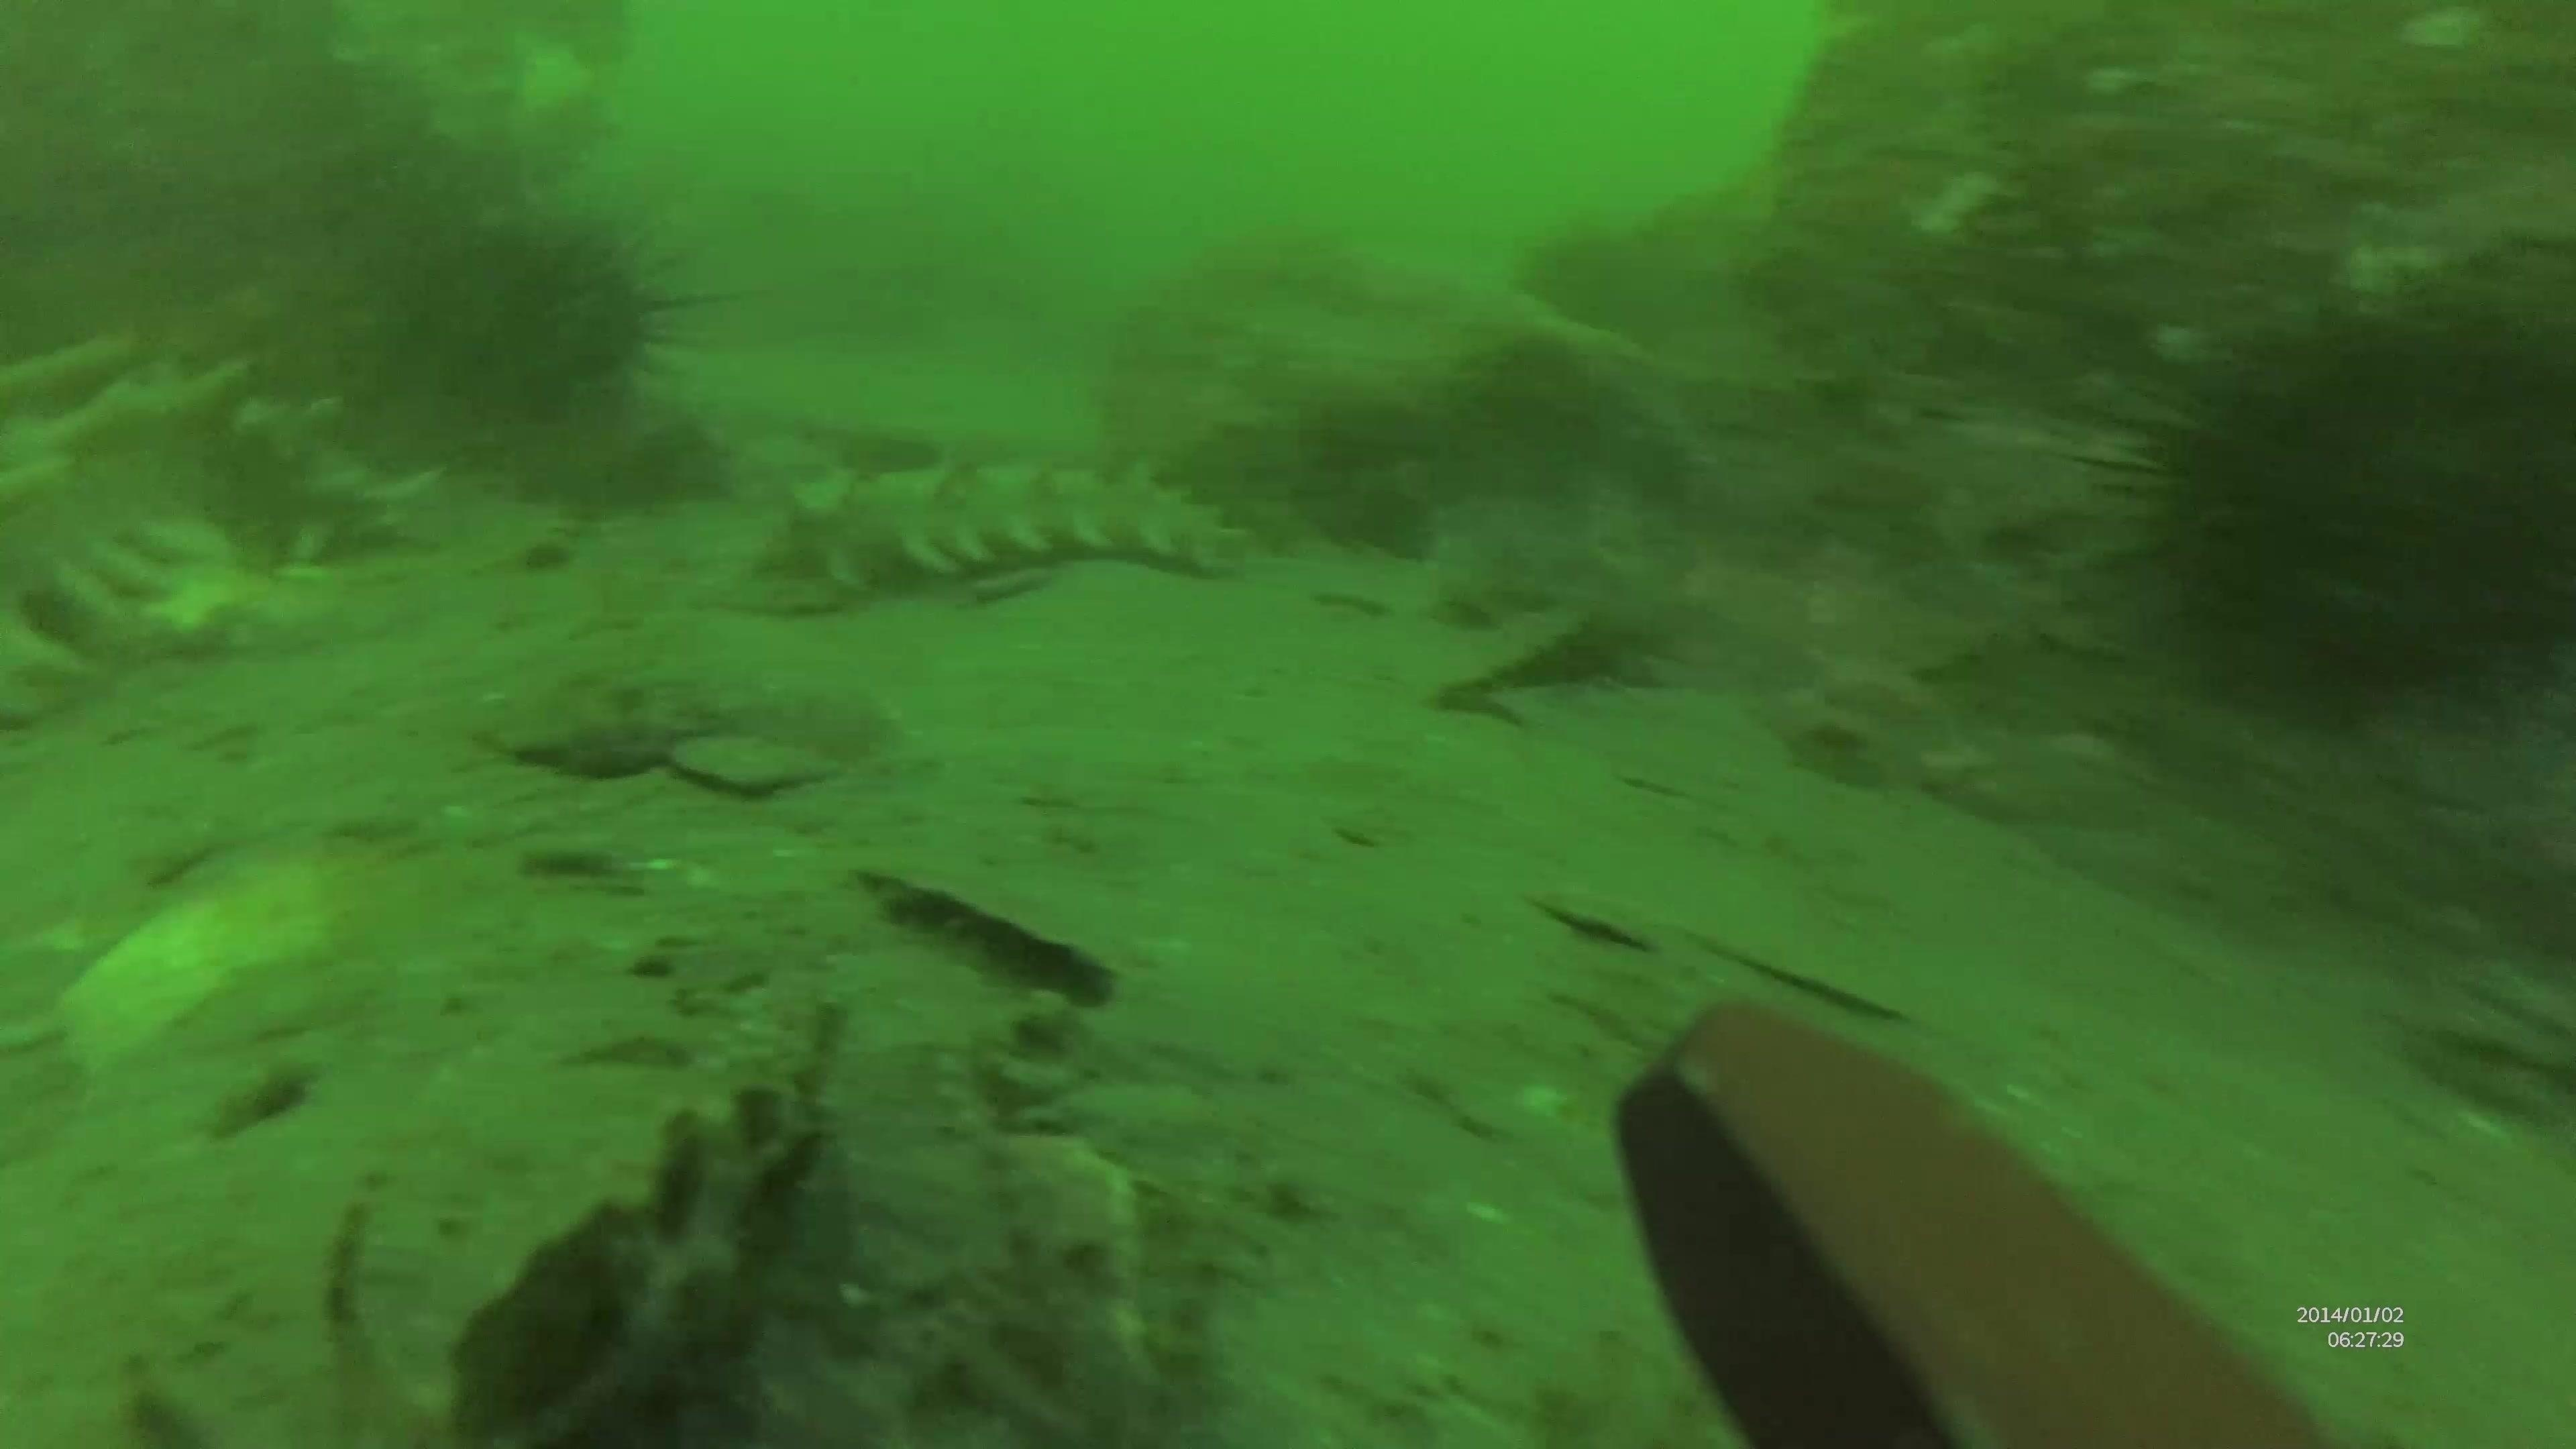echinus: (2082, 285, 2572, 731), (380, 189, 702, 444)
holothurian: (0, 320, 433, 727), (745, 449, 1247, 614)
